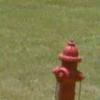Hydrant: (44, 32, 84, 100)
